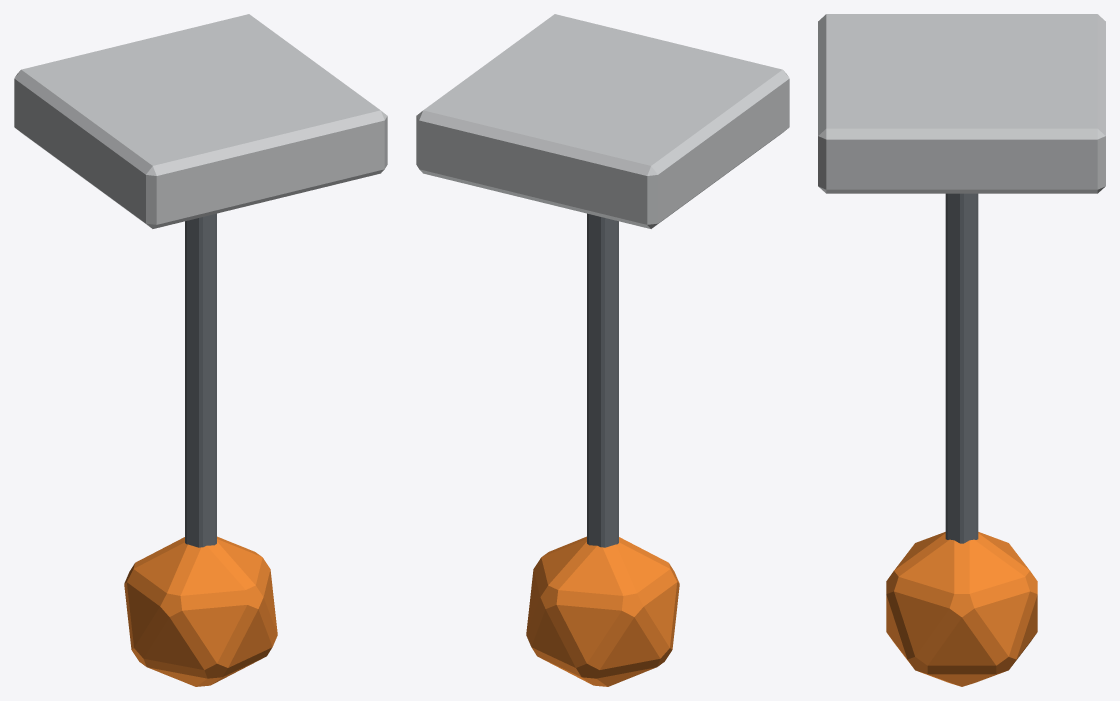
Rendered from pull_switch.glb.
The picture shows the model from 3 angles, left to right: view 1: azimuth 30°, elevation 25°; view 2: azimuth 150°, elevation 25°; view 3: azimuth 270°, elevation 25°; orthographic projection. The views are drawn at different scales.
Parts seen in each view (by area): view 1: pull_switch; view 2: pull_switch; view 3: pull_switch.
Part boxes in pixels (<box>): pull_switch: <box>14,14,387,686</box>; pull_switch: <box>416,14,789,686</box>; pull_switch: <box>818,14,1105,686</box>.
Size of the model in its own units: 0.14 by 0.3276 by 0.14.
